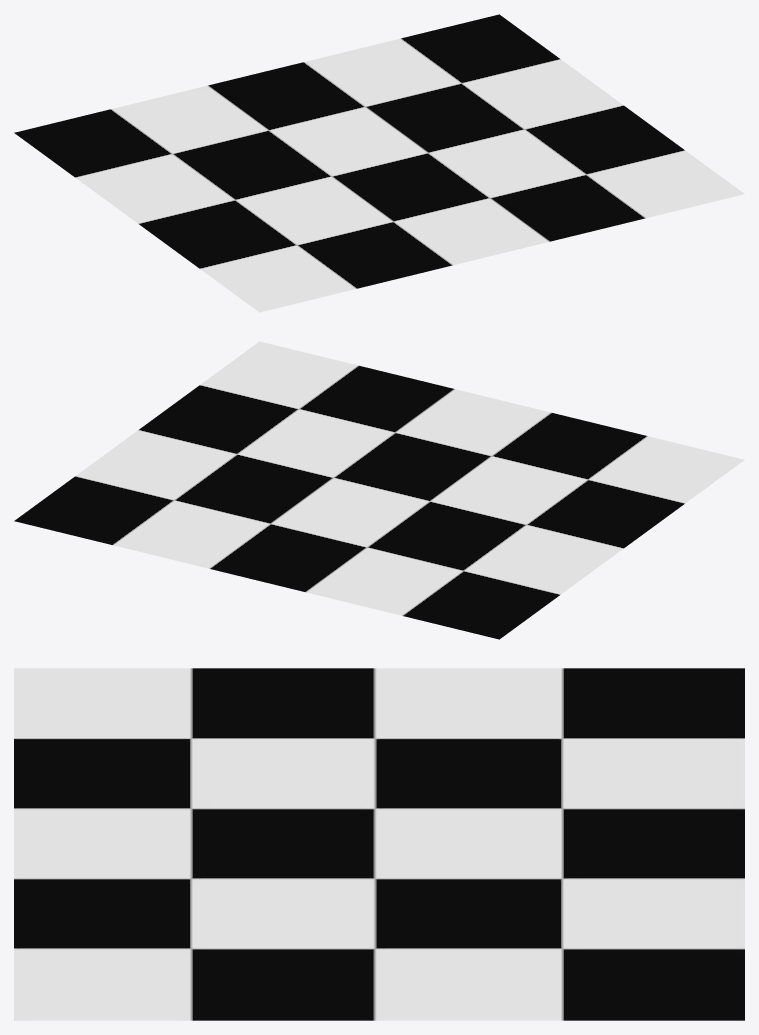
Rendered from Finish_Checker_1.FBX.
The picture shows the model from 3 angles, top to bottom: view 1: azimuth 30°, elevation 25°; view 2: azimuth 150°, elevation 25°; view 3: azimuth 270°, elevation 25°; orthographic projection. The views are drawn at different scales.
Parts seen in each view (by area): view 1: Finish_Checker_1; view 2: Finish_Checker_1; view 3: Finish_Checker_1.
Part boxes in pixels (bbox=[...]): Finish_Checker_1: bbox=[14, 14, 744, 312]; Finish_Checker_1: bbox=[14, 341, 744, 639]; Finish_Checker_1: bbox=[14, 668, 744, 1020].
Bounding box in the file's own units: 5.4 × 1.31e-06 × 4.73.
